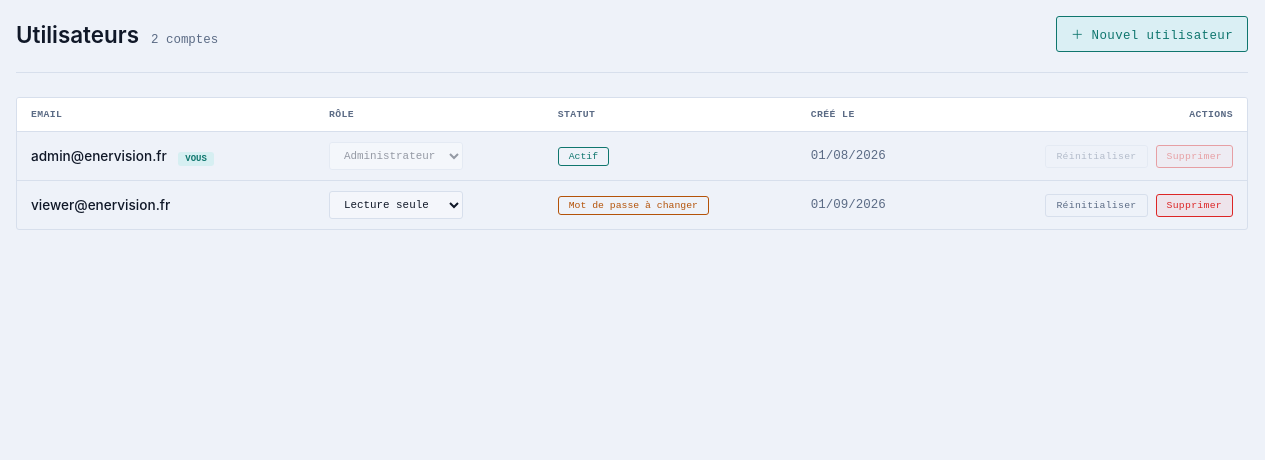
UsersView › crée un compte avec un mot de passe temporaire pré-généré
Step 1. Click the button "＋ Nouvel utilisateur" → (1152,34), box [1056,16,1248,52]
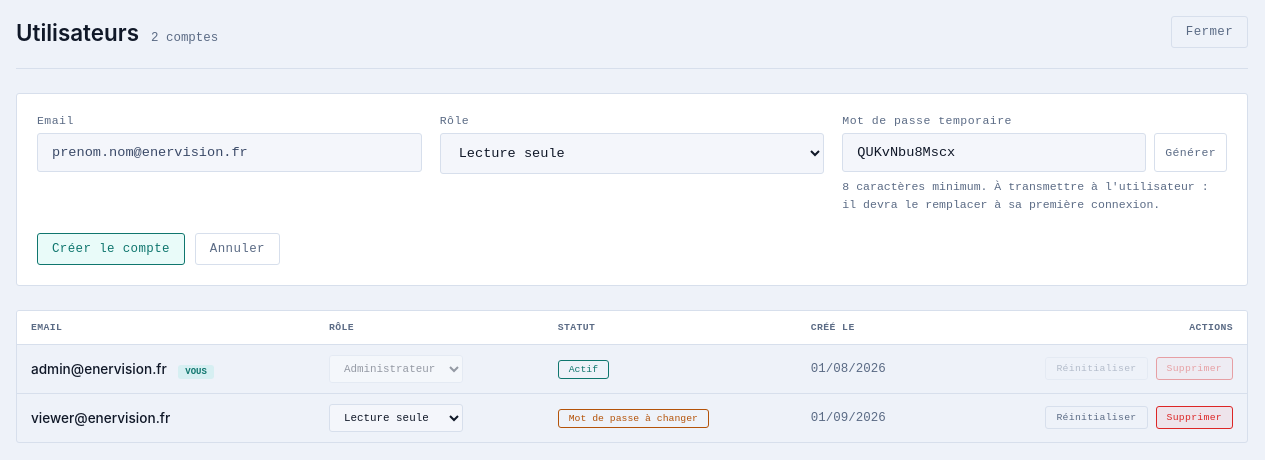
Step 2. Type "nouveau@enervision.fr" into the field with id "nouvel-email" → (229,152), box [37,133,422,172]
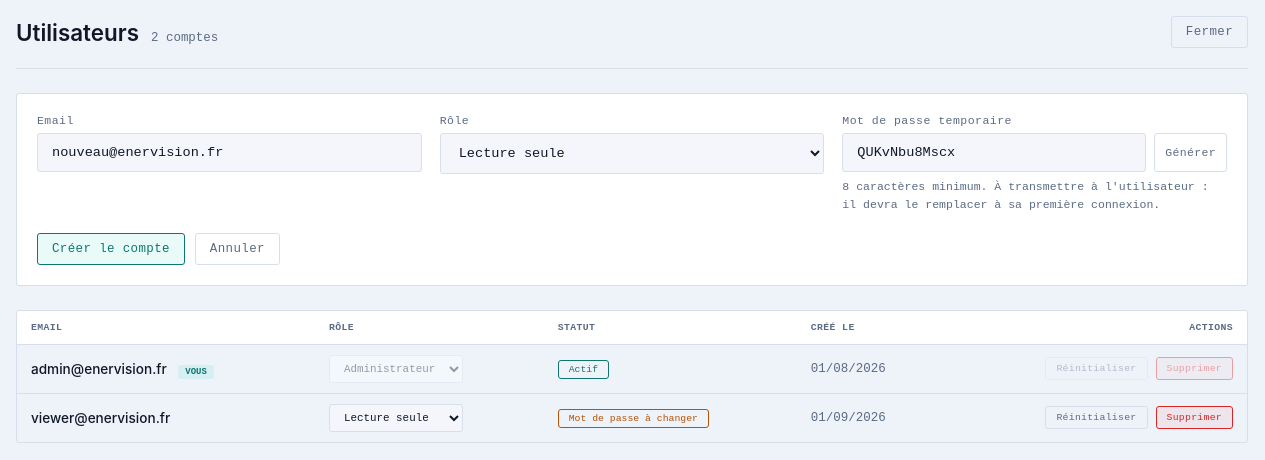
Step 3. Select "Opérateur" in the dropdown with id "nouveau-role" → (632,154), box [440,133,824,174]
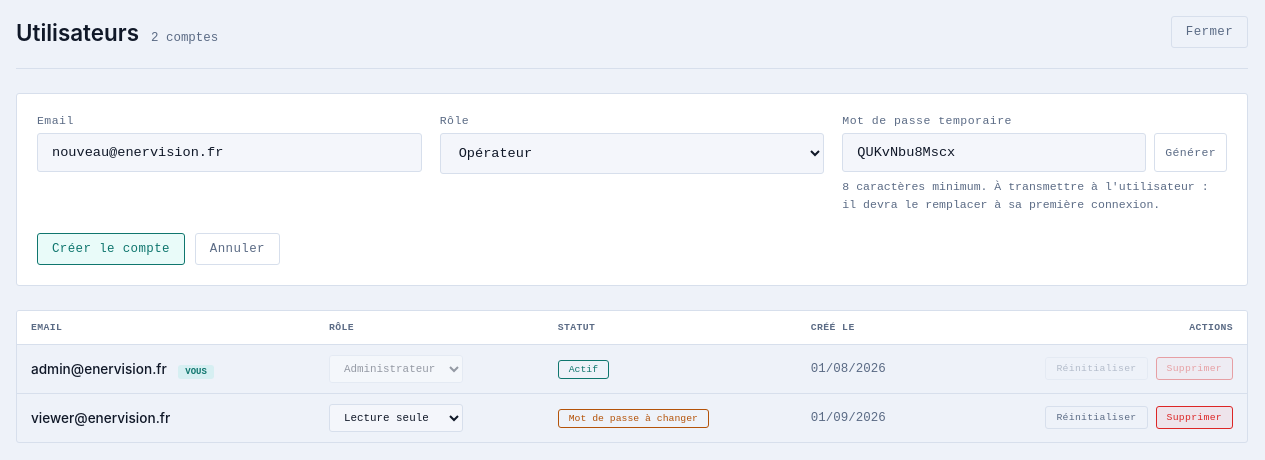
Step 4. Submit the form with class "creation", box [16,93,1248,286]
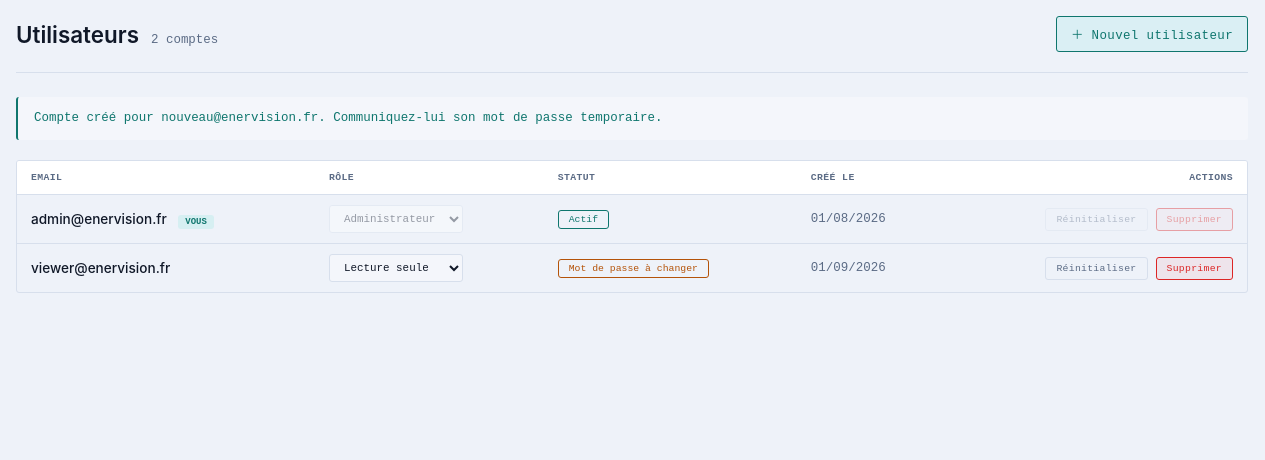
expect the text "Compte créé pour nouveau@enervision.fr" is shown: met, box [34,111,662,125]
